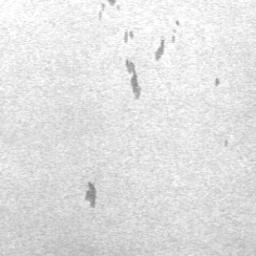Iron scale compression: (126, 60, 139, 99), (86, 183, 96, 207), (156, 39, 164, 61), (173, 21, 180, 44), (123, 31, 134, 43), (98, 4, 105, 21)
